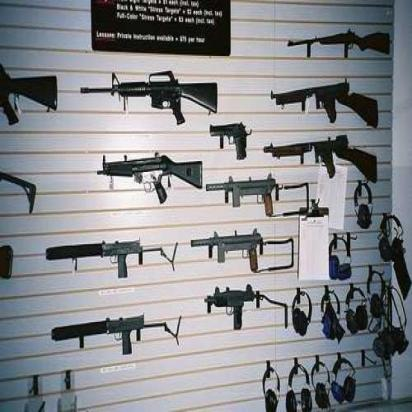Gun: (79, 70, 218, 123), (263, 131, 378, 181), (188, 228, 266, 275), (198, 285, 261, 338)
